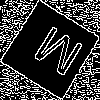M: (25, 25, 86, 86)
